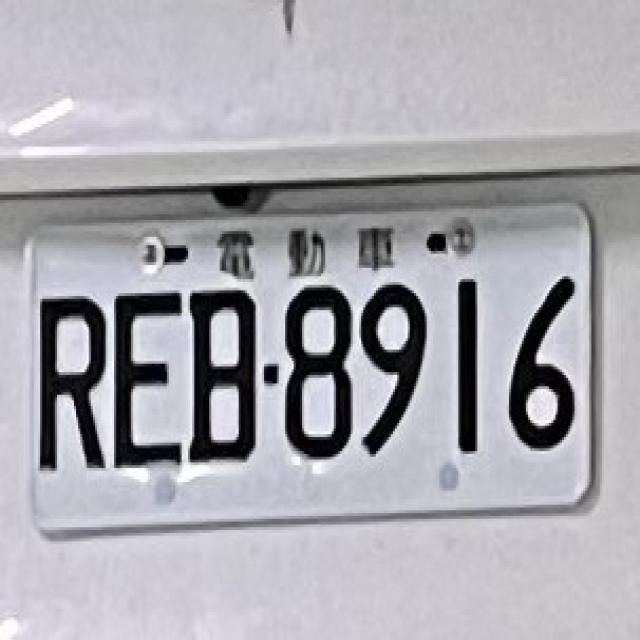license-plate: (18, 202, 606, 541)
